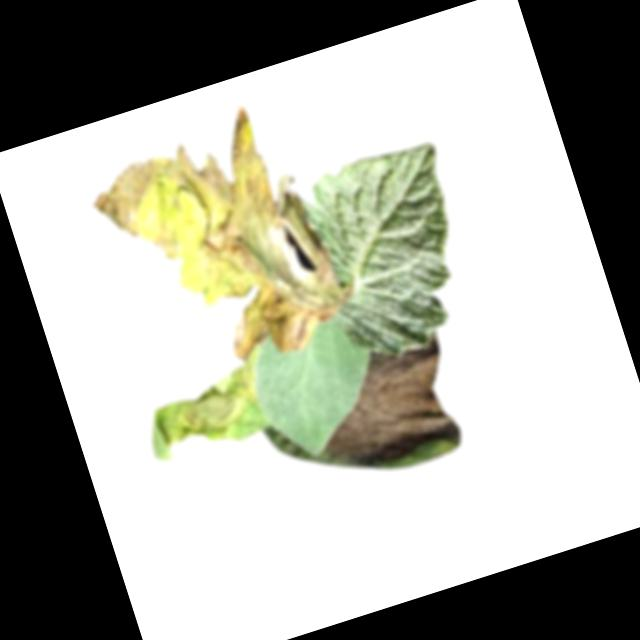Late_blight: (78, 94, 357, 396), (297, 330, 472, 481), (130, 344, 285, 468)
healthy: (293, 136, 492, 367), (243, 312, 396, 465)
